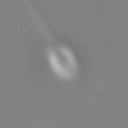normal: (25, 1, 57, 45)
